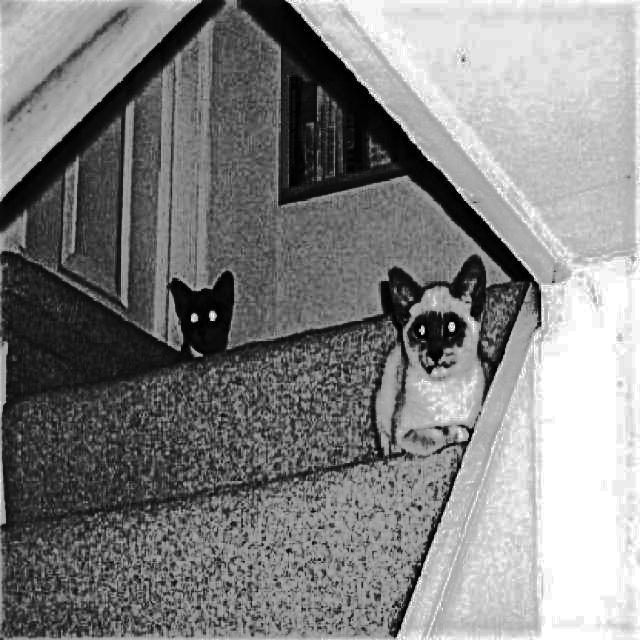Cat: (372, 246, 503, 463), (168, 268, 239, 365)
